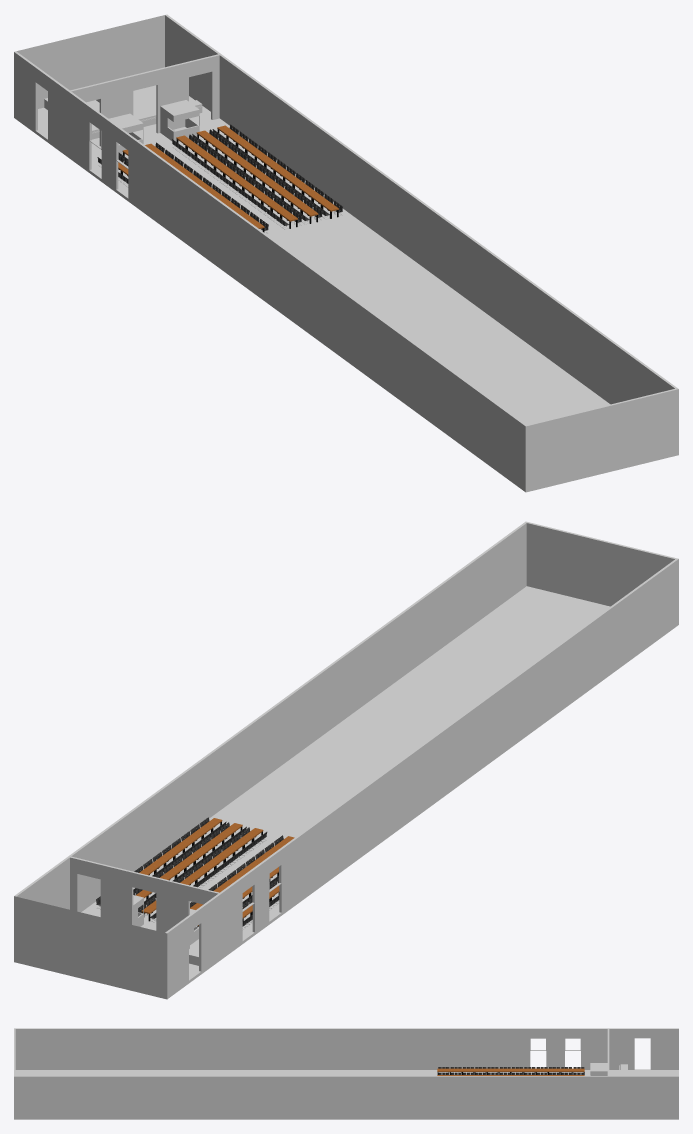
File: comedor-v00.dae
The picture shows the model from 3 angles, top to bottom: view 1: azimuth 30°, elevation 25°; view 2: azimuth 150°, elevation 25°; view 3: azimuth 270°, elevation 25°; orthographic projection. The views are drawn at different scales.
Visible parts, largest first — view 1: G-Object.005, G-Object.001; view 2: G-Object.005; view 3: G-Object.005, G-Object.
Boxes of the visible parts, x1=… form: G-Object.005: x1=14, y1=14, x2=678, y2=492; G-Object.001: x1=160, y1=100, x2=199, y2=141; G-Object.005: x1=14, y1=521, x2=678, y2=999; G-Object.005: x1=14, y1=1028, x2=678, y2=1119; G-Object: x1=590, y1=1063, x2=607, y2=1075.
Bounding box in the file's own units: 16.5 × 95.5 × 6.8.
Materials: 4 (1 with a texture image).
